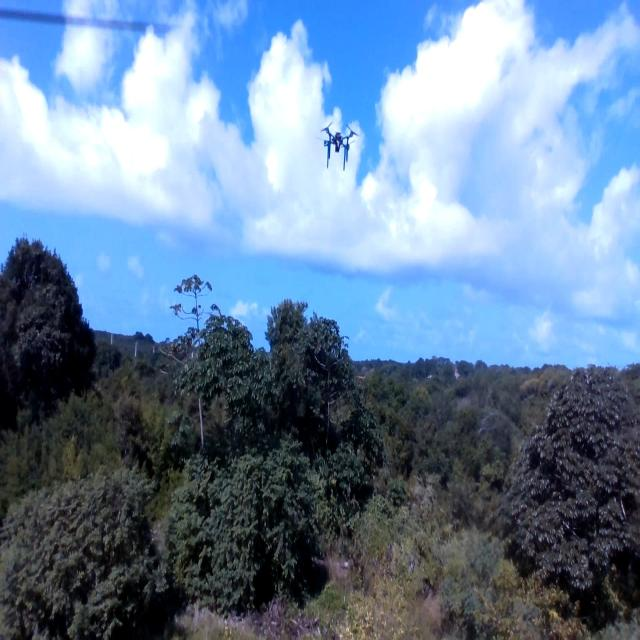-uav-: (314, 113, 363, 176)
